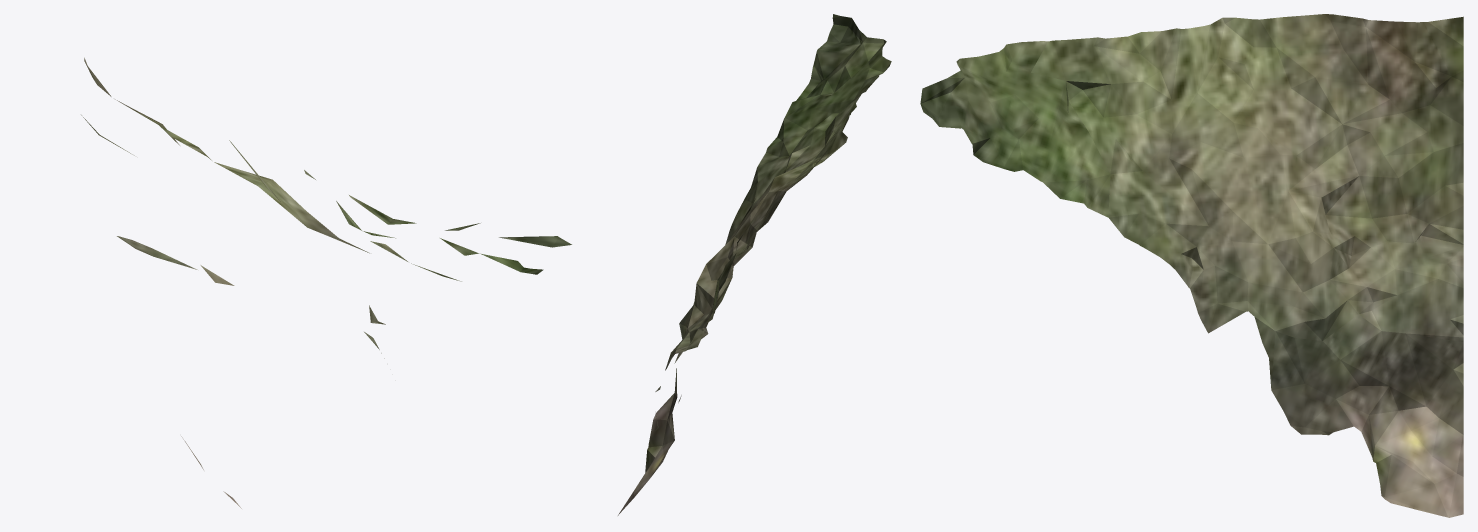
3 views of the same model, side by side, from view 1: azimuth 30°, elevation 25°; view 2: azimuth 150°, elevation 25°; view 3: azimuth 270°, elevation 25° (orthographic). The views are drawn at different scales.
Bounding box in the file's own units: 0.7703 × 1.76 × 2.07.
1 material, 1 textured.
